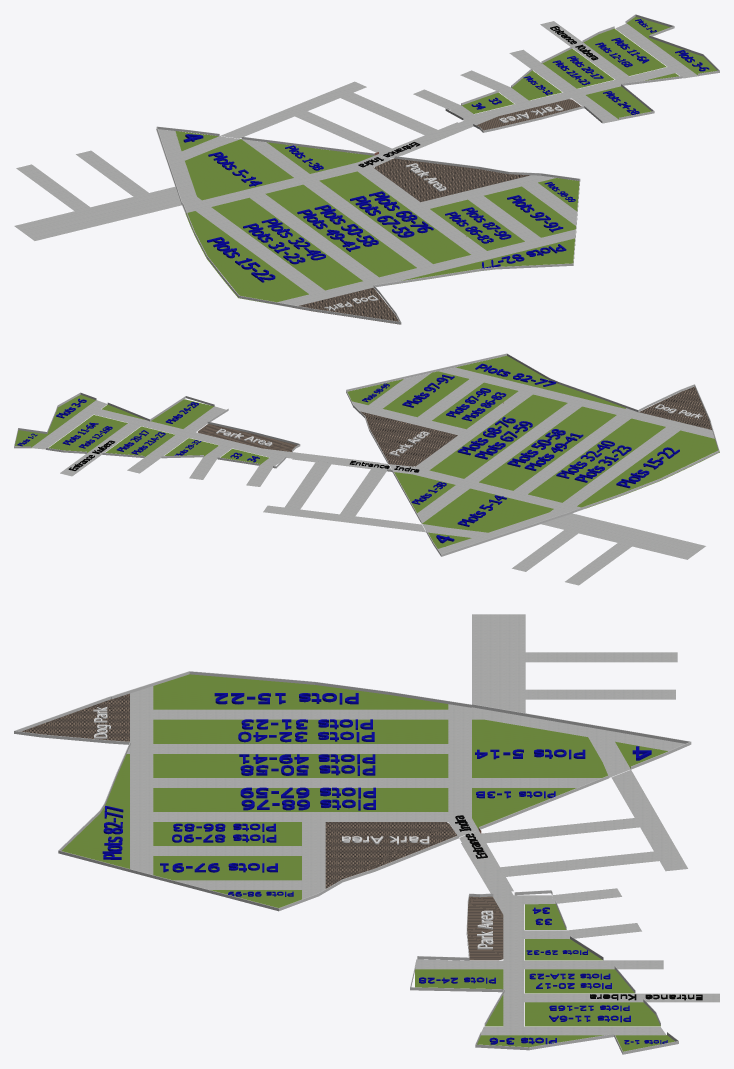
3 renders of one model, top to bottom at view 1: azimuth 30°, elevation 25°; view 2: azimuth 150°, elevation 25°; view 3: azimuth 270°, elevation 25°, orthographic. The views are drawn at different scales.
Parts seen in each view (by area): view 1: Geom3D (×9), Geom3D_Plots 15-22, Geom3D_Plots 50-58, Geom3D_Plots 67-59, Geom3D_Plots 68-76, Geom3D_Plots 32-40, Geom3D_Plots 31-23, Geom3D_Plots 49-41; view 2: Geom3D (×9), Geom3D_Plots 15-22, Geom3D_Plots 50-58, Geom3D_Plots 67-59, Geom3D_Plots 68-76, Geom3D_Plots 32-40, Geom3D_Plots 31-23, Geom3D_Plots 49-41, Geom3D_Plots 82-77; view 3: Geom3D (×9), Geom3D_Plots 15-22, Geom3D_Plots 50-58, Geom3D_Plots 67-59, Geom3D_Plots 68-76, Geom3D_Plots 31-23, Geom3D_Plots 32-40, Geom3D_Plots 49-41, Geom3D_Plots 82-77.
Part boxes in pixels (bbox=[...]): Geom3D (×9): bbox=[14, 14, 719, 324]; Geom3D_Plots 15-22: bbox=[207, 237, 275, 282]; Geom3D_Plots 50-58: bbox=[314, 204, 378, 246]; Geom3D_Plots 67-59: bbox=[350, 195, 414, 237]; Geom3D_Plots 68-76: bbox=[369, 191, 433, 233]; Geom3D_Plots 32-40: bbox=[261, 218, 325, 260]; Geom3D_Plots 31-23: bbox=[243, 223, 305, 264]; Geom3D_Plots 49-41: bbox=[297, 209, 360, 251]; Geom3D (×9): bbox=[14, 353, 719, 585]; Geom3D_Plots 15-22: bbox=[616, 447, 679, 488]; Geom3D_Plots 50-58: bbox=[507, 429, 565, 467]; Geom3D_Plots 67-59: bbox=[474, 421, 532, 459]; Geom3D_Plots 68-76: bbox=[457, 417, 515, 455]; Geom3D_Plots 32-40: bbox=[556, 440, 614, 478]; Geom3D_Plots 31-23: bbox=[574, 445, 631, 482]; Geom3D_Plots 49-41: bbox=[524, 433, 583, 470]; Geom3D_Plots 82-77: bbox=[475, 363, 556, 386]; Geom3D (×9): bbox=[14, 614, 719, 1054]; Geom3D_Plots 15-22: bbox=[214, 693, 358, 704]; Geom3D_Plots 50-58: bbox=[240, 765, 375, 775]; Geom3D_Plots 67-59: bbox=[240, 787, 375, 798]; Geom3D_Plots 68-76: bbox=[241, 799, 375, 810]; Geom3D_Plots 31-23: bbox=[241, 719, 372, 729]; Geom3D_Plots 32-40: bbox=[238, 731, 374, 742]; Geom3D_Plots 49-41: bbox=[239, 754, 375, 764]; Geom3D_Plots 82-77: bbox=[102, 806, 123, 859].
Size of the model in its own units: 501 by 1.68 by 339.
Materials: 16 (7 with a texture image).
